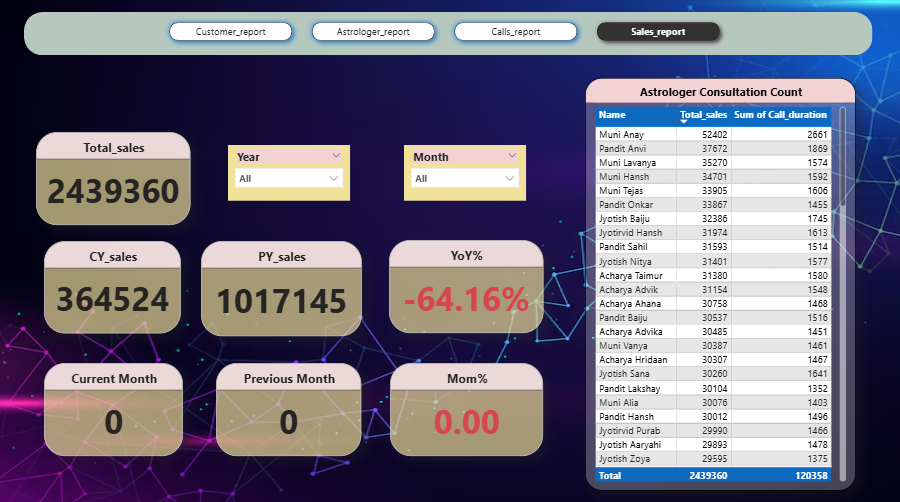

What the dashboard file says about the page in this screenshot:
{"tool":"powerbi","page":{"name":"Sales_report","canvas":[1280,720],"ordinal":3},"visuals":[{"type":"card","title":"Total_sales","fields":{"Values":["All Measures.Total_sales"]},"box":[54.7,190.1,218.9,132.5],"z":0},{"type":"tableEx","title":"Astrologer Consultation Count","fields":{"Values":["astro.Name","All Measures.Total_sales","Sum(calls_data.Call_duration)"]},"box":[843.8,190.1,373,508.3],"z":1000},{"type":"card","title":"CY_sales","fields":{"Values":["All Measures.CY_sales"]},"box":[66.2,344.2,194.4,131],"z":2000},{"type":"card","title":"PY_sales","fields":{"Values":["All Measures.PY_sales1"]},"box":[289.4,344.2,227.5,135.4],"z":3000},{"type":"slicer","fields":{"Values":["Date.Date.Variation.Date Hierarchy.Year"]},"box":[326.9,208.8,172.8,79.2],"z":4000},{"type":"slicer","fields":{"Values":["Date.Date.Variation.Date Hierarchy.Month"]},"box":[577.4,208.8,172.8,79.2],"z":5000},{"type":"card","title":"Current Month","fields":{"Values":["All Measures.C_M_Sales"]},"box":[66.2,517,197.3,132.5],"z":6000},{"type":"card","title":"Previous Month","fields":{"Values":["All Measures.P_M_sales"]},"box":[311,517,205.9,132.5],"z":7000},{"type":"card","title":"YoY%","fields":{"Values":["All Measures.YoY%_Sales_Change"]},"box":[555.8,342.7,218.9,132.5],"z":8000},{"type":"card","title":"Mom%","fields":{"Values":["All Measures.MoM%_sales_change"]},"box":[557.3,517,217.4,132.5],"z":9000},{"type":"shape","box":[38.6,20,1202.8,61.5],"z":10000},{"type":"pageNavigator","box":[236,25.7,799.5,44.3],"z":11000}]}

Visuals, with their boxes in screenshot pixels (x1, y1, x2, y2), scaled from the page's 1280x720 canvas onto the 900x502 screenshot:
"Total_sales" card: bbox=(38, 133, 192, 225)
"Astrologer Consultation Count" tableEx: bbox=(593, 133, 856, 487)
"CY_sales" card: bbox=(47, 240, 183, 331)
"PY_sales" card: bbox=(203, 240, 363, 334)
slicer - Date.Date.Variation.Date Hierarchy.Year: bbox=(230, 146, 351, 201)
slicer - Date.Date.Variation.Date Hierarchy.Month: bbox=(406, 146, 527, 201)
"Current Month" card: bbox=(47, 360, 185, 453)
"Previous Month" card: bbox=(219, 360, 363, 453)
"YoY%" card: bbox=(391, 239, 545, 331)
"Mom%" card: bbox=(392, 360, 545, 453)
shape: bbox=(27, 14, 873, 57)
pageNavigator: bbox=(166, 18, 728, 49)
